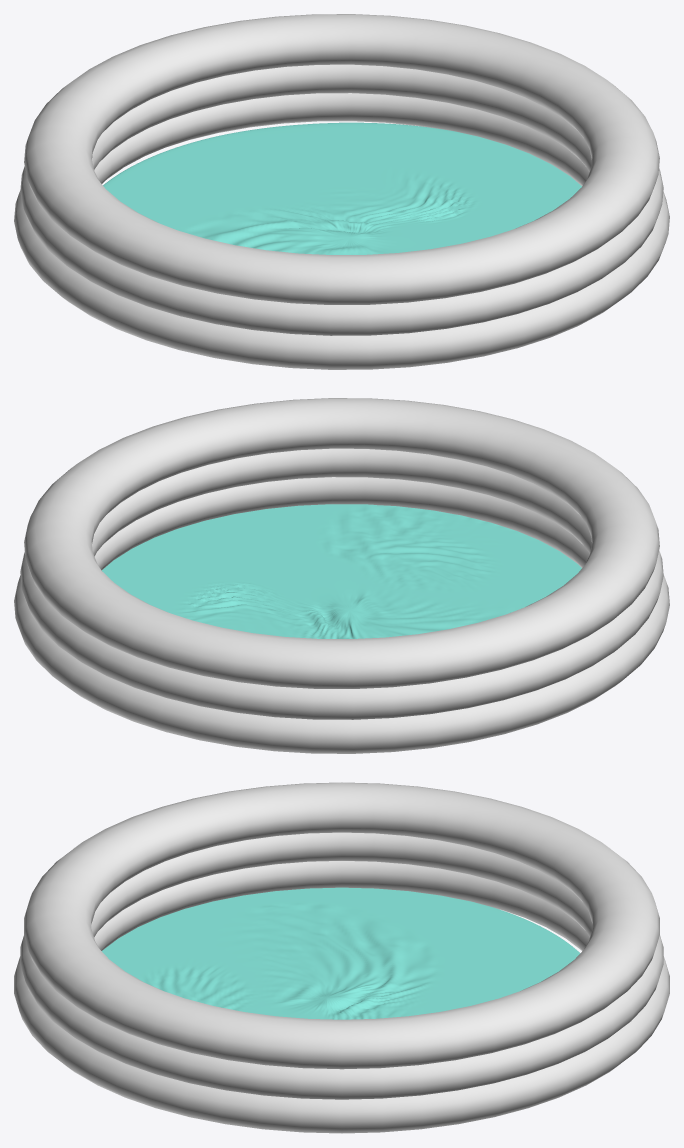
The model's file is Pool.fbx.
The picture shows the model from 3 angles, top to bottom: view 1: azimuth 30°, elevation 25°; view 2: azimuth 150°, elevation 25°; view 3: azimuth 270°, elevation 25°; orthographic projection.
Parts seen in each view (by area): view 1: Torus.003; view 2: Torus.003; view 3: Torus.003.
Boxes of the visible parts, x1,y1,x2,y2 form: Torus.003: (14,14,669,369); Torus.003: (14,398,669,753); Torus.003: (14,782,669,1133).
Bounding box in the file's own units: 1185 × 209 × 1198.
